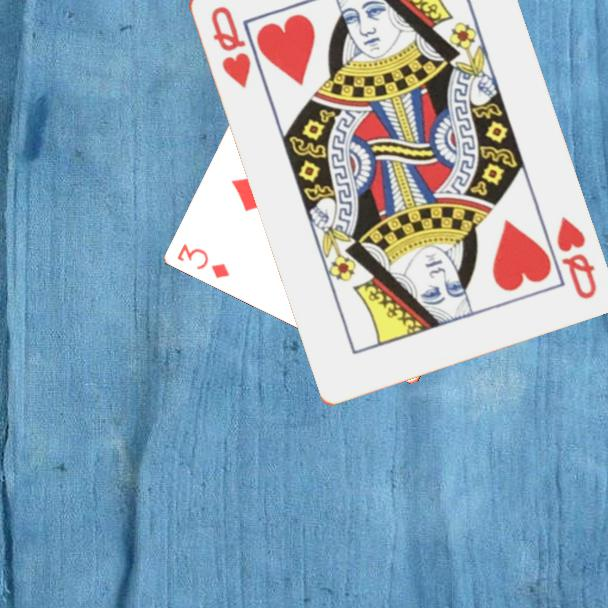d03: (174, 240, 233, 281)
h12: (207, 2, 254, 91), (552, 213, 599, 302)
